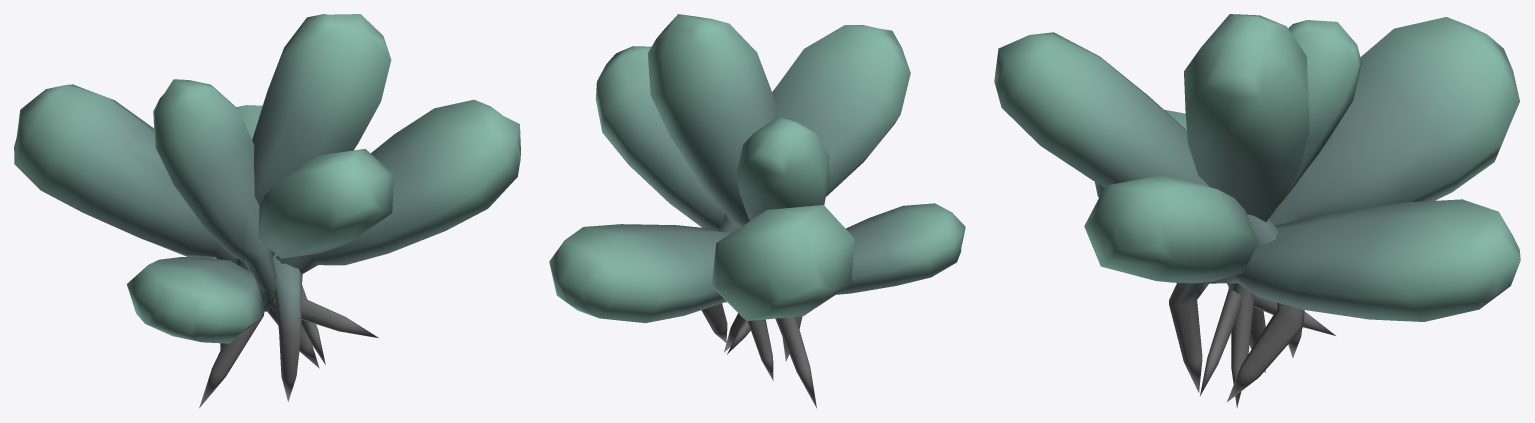
Rendered from plants-cacti-succulents-paddle-succulent_v3.glb.
3 renders of one model, left to right at view 1: azimuth 30°, elevation 25°; view 2: azimuth 150°, elevation 25°; view 3: azimuth 270°, elevation 25°, orthographic. The views are drawn at different scales.
Parts seen in each view (by area): view 1: Paddle Succulent_v3; view 2: Paddle Succulent_v3; view 3: Paddle Succulent_v3.
Part boxes in pixels (left/top/right/bottom): Paddle Succulent_v3: left=14, top=14, right=520, bottom=408; Paddle Succulent_v3: left=549, top=14, right=965, bottom=408; Paddle Succulent_v3: left=994, top=14, right=1520, bottom=407.
Bounding box in the file's own units: 0.1414 × 0.1342 × 0.15.
